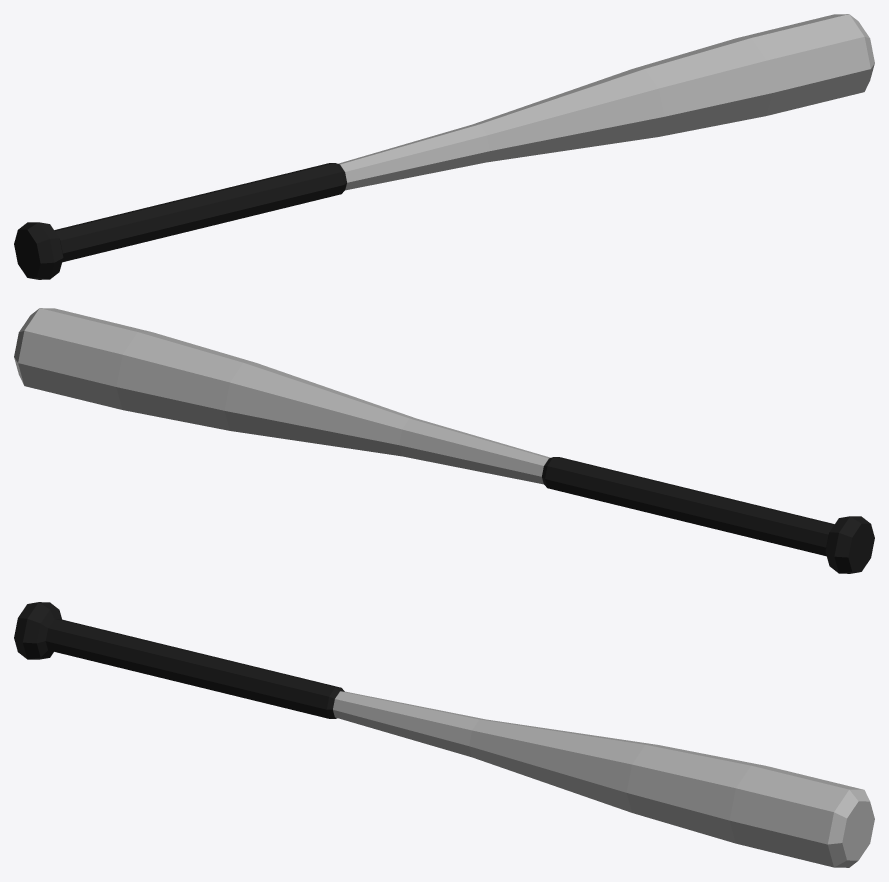
The model's file is baseball_bat.glb.
The picture shows the model from 3 angles, top to bottom: view 1: azimuth 30°, elevation 25°; view 2: azimuth 150°, elevation 25°; view 3: azimuth 330°, elevation 25°; orthographic projection.
Parts seen in each view (by area): view 1: baseball_bat; view 2: baseball_bat; view 3: baseball_bat.
Part boxes in pixels (<box>): baseball_bat: <box>14,14,874,279</box>; baseball_bat: <box>14,308,874,573</box>; baseball_bat: <box>14,602,874,867</box>.
Bounding box in the file's own units: 0.7792 × 0.0701 × 0.0701.
Materials: 1 (1 with a texture image).
